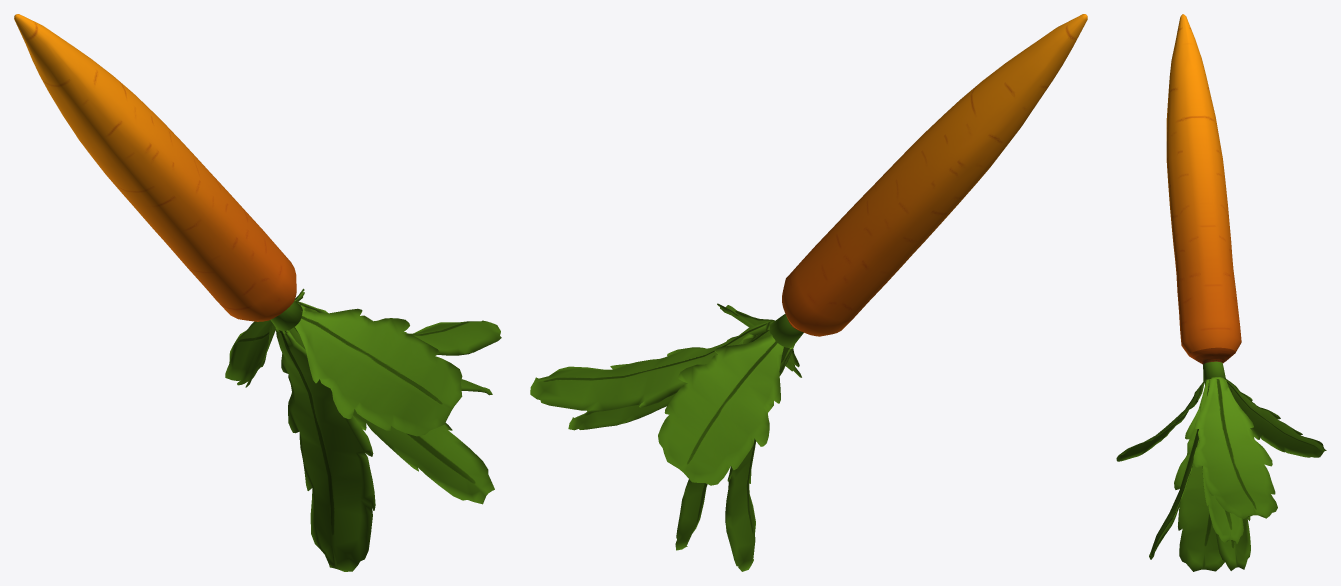
Rendered from carrot_dynamic.obj.
3 views of the same model, side by side, from view 1: azimuth 30°, elevation 25°; view 2: azimuth 150°, elevation 25°; view 3: azimuth 270°, elevation 25° (orthographic). The views are drawn at different scales.
Bounding box in the file's own units: 0.6057 × 0.7079 × 0.303.
3 materials, 3 textured.
